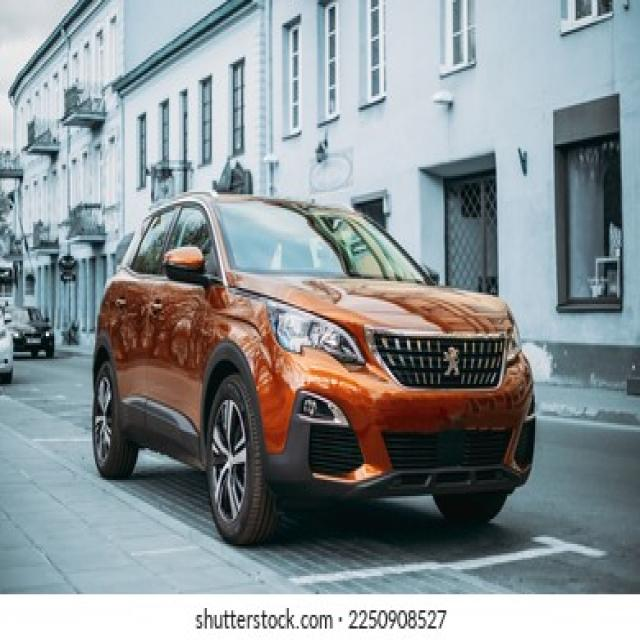pegout: (438, 344, 462, 376)
